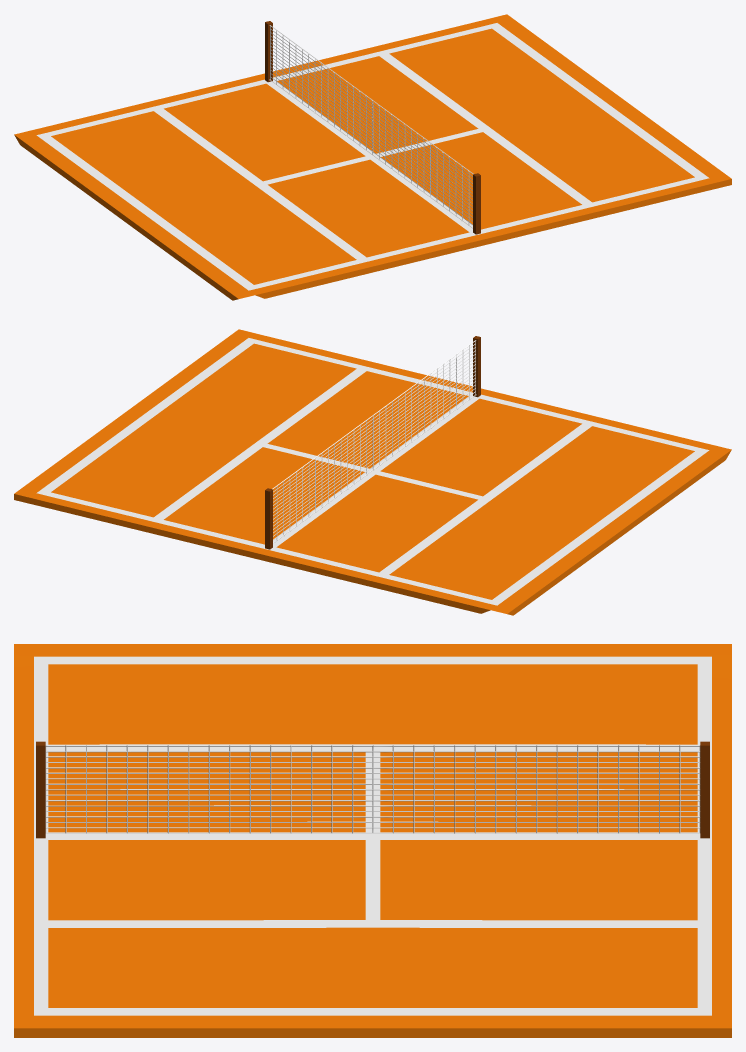
The model's file is tenniscourt.fbx.
3 renders of one model, top to bottom at view 1: azimuth 30°, elevation 25°; view 2: azimuth 150°, elevation 25°; view 3: azimuth 270°, elevation 25°, orthographic. The views are drawn at different scales.
Parts seen in each view (by area): view 1: tenniscourt; view 2: tenniscourt; view 3: tenniscourt.
Boxes of the visible parts, bbox=[...] form: tenniscourt: bbox=[14, 14, 731, 300]; tenniscourt: bbox=[14, 329, 731, 615]; tenniscourt: bbox=[14, 644, 731, 1037].
Size of the model in its own units: 6599 by 820 by 5212.
